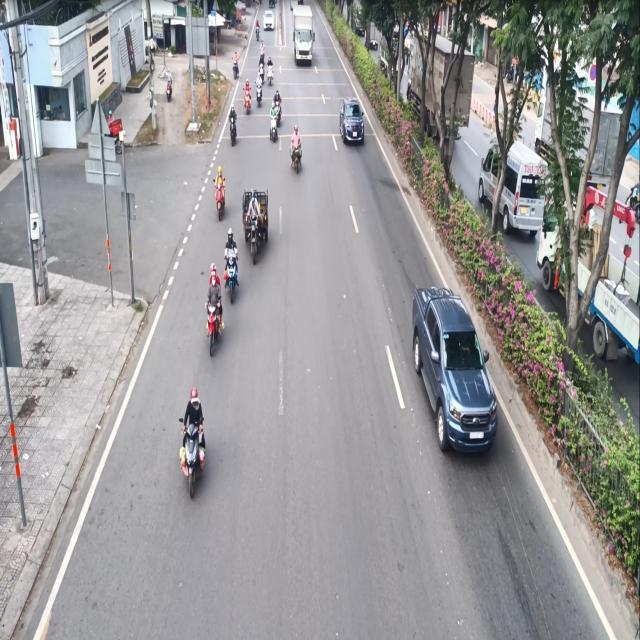car: (412, 272, 498, 463), (337, 92, 373, 146)
motor: (179, 386, 208, 496), (205, 260, 223, 353), (224, 225, 242, 312), (212, 160, 226, 224), (290, 126, 307, 171), (230, 106, 238, 149), (244, 75, 251, 115)
truck: (291, 3, 316, 69)
